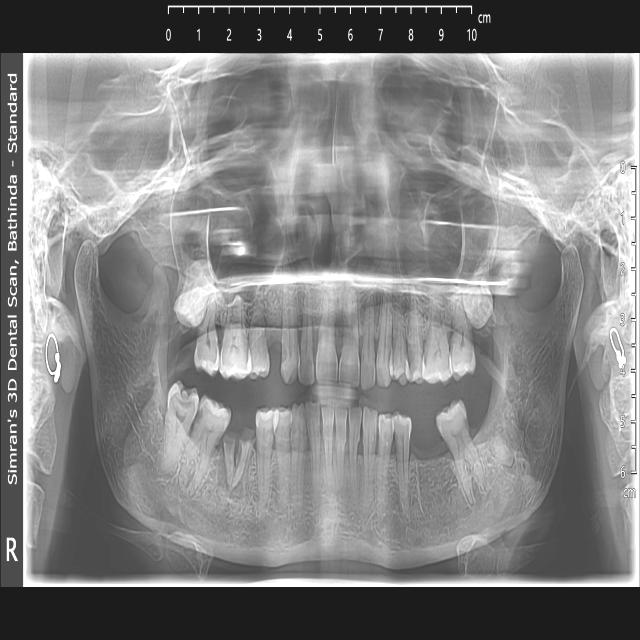Caries: (282, 335, 289, 363), (195, 405, 204, 426), (409, 343, 414, 372)
Missing teeth: (408, 420, 450, 460), (268, 338, 282, 373)
Root Piece: (220, 434, 261, 498), (491, 437, 515, 468), (504, 419, 524, 455)
